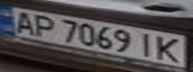0: (75, 20, 96, 47)
6: (93, 25, 115, 51)
7: (54, 17, 81, 44)
9: (112, 27, 133, 53)
A: (9, 8, 39, 35)
I: (133, 29, 157, 57)
K: (151, 34, 187, 63)
P: (30, 12, 60, 38)
